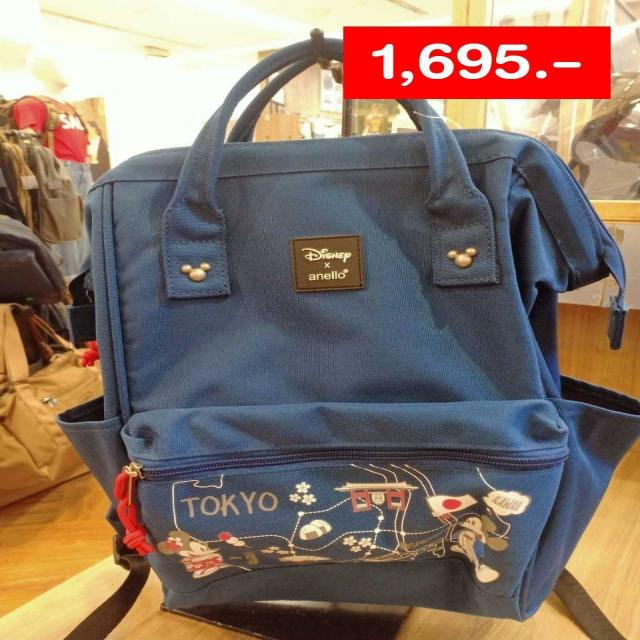Handbag: (59, 96, 626, 621)
